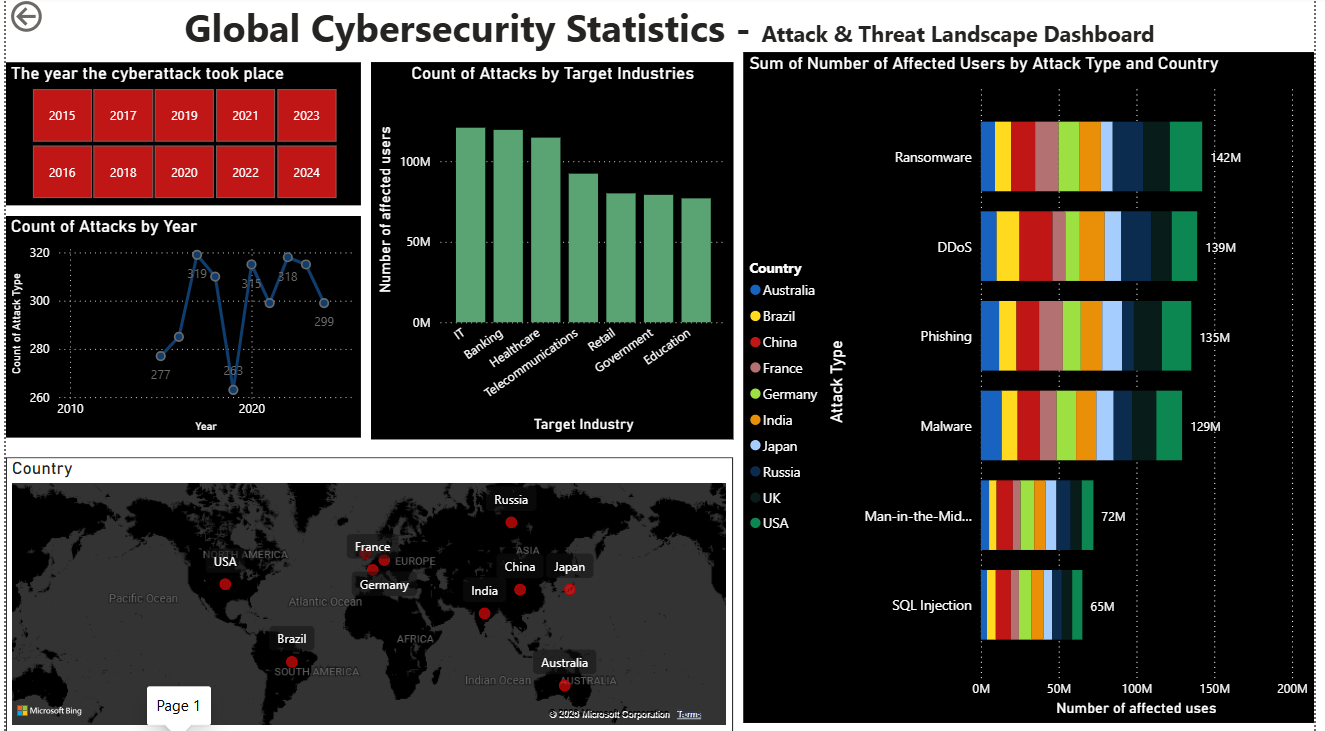

What the dashboard file says about the page in this screenshot:
{"tool":"powerbi","page":{"name":"Page 1","canvas":[1280,720],"ordinal":0},"visuals":[{"type":"textbox","box":[154.3,0,990,64.3],"z":0},{"type":"slicer","title":"The year the cyberattack took place","fields":{"Values":["Sheet1.Year"]},"box":[0,64.3,347.1,140],"z":1000},{"type":"columnChart","title":"Count of Attacks by Target Industries","fields":{"Category":["Sheet1.Target Industry"],"Y":["Sum(Sheet1.Number of Affected Users)"]},"box":[357.1,64.3,354.3,368.6],"z":2000},{"type":"map","fields":{"Category":["Sheet1.Country"]},"box":[0,451.4,711.4,268.6],"z":3000},{"type":"barChart","fields":{"Category":["Sheet1.Attack Type"],"Series":["Sheet1.Country"],"Y":["Sum(Sheet1.Number of Affected Users)"]},"box":[721.4,55.2,559.1,656],"z":4000},{"type":"lineChart","title":"Count of Attacks by Year","fields":{"Category":["Sheet1.Year"],"Y":["CountNonNull(Sheet1.Attack Type)"]},"box":[0,215.7,347.1,217.1],"z":5000},{"type":"actionButton","box":[0,0,100,40],"z":6000}]}

Visuals, with their boxes in screenshot pixels (x1, y1, x2, y2), scaled from the page's 1280x720 canvas onto the 1325x731 screenshot:
textbox: <box>160,0,1185,65</box>
"The year the cyberattack took place" slicer: <box>0,65,359,207</box>
"Count of Attacks by Target Industries" columnChart: <box>370,65,736,440</box>
map - Sheet1.Country: <box>0,458,736,730</box>
barChart - Sheet1.Attack Type x Sheet1.Country: <box>747,56,1324,722</box>
"Count of Attacks by Year" lineChart: <box>0,219,359,439</box>
actionButton: <box>0,0,104,41</box>
